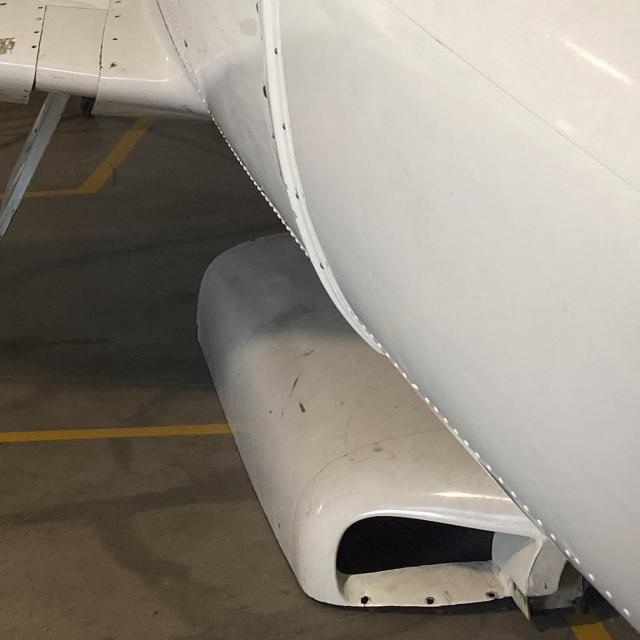Missing-head: (106, 59, 122, 71), (109, 35, 119, 45), (30, 43, 39, 52)
